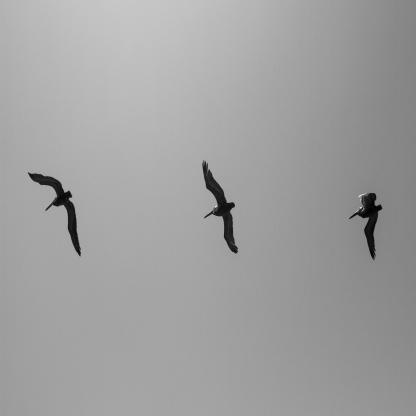bird: (28, 172, 81, 257), (202, 160, 238, 254), (349, 193, 382, 260)
